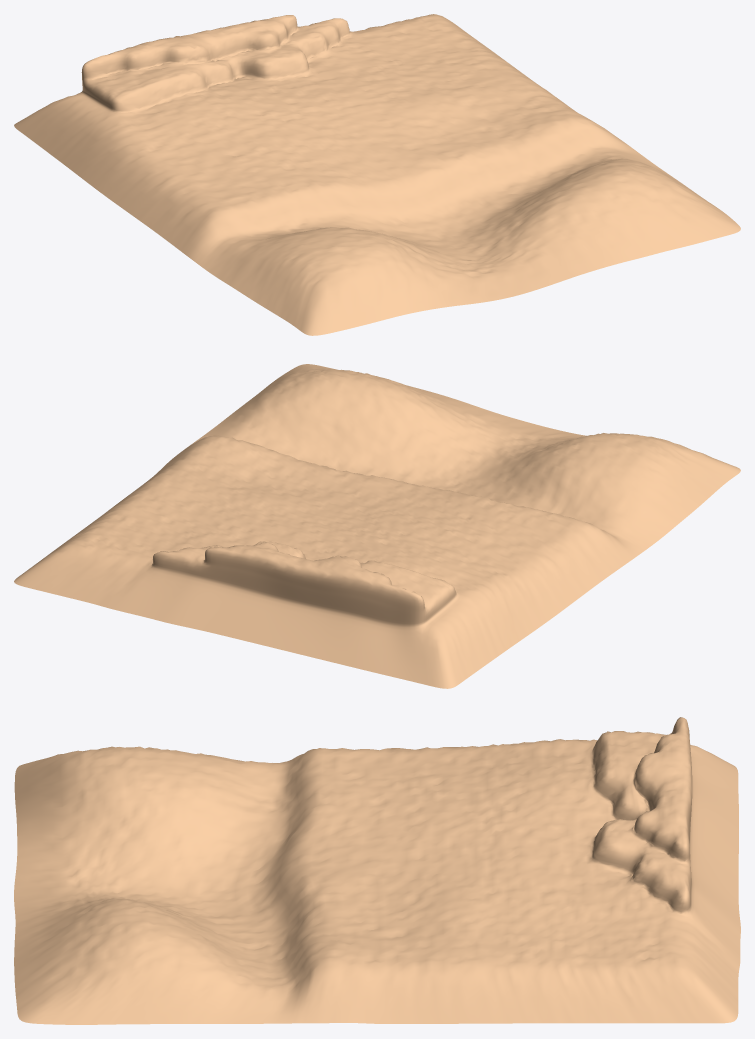
Rendered from ground_2.fbx.
The picture shows the model from 3 angles, top to bottom: view 1: azimuth 30°, elevation 25°; view 2: azimuth 150°, elevation 25°; view 3: azimuth 270°, elevation 25°; orthographic projection. The views are drawn at different scales.
Parts seen in each view (by area): view 1: Plane; view 2: Plane; view 3: Plane.
Boxes of the visible parts, bbox=[...] form: Plane: bbox=[14, 14, 740, 335]; Plane: bbox=[14, 364, 740, 688]; Plane: bbox=[14, 717, 740, 1024].
Size of the model in its own units: 30836 by 5276 by 35777.
